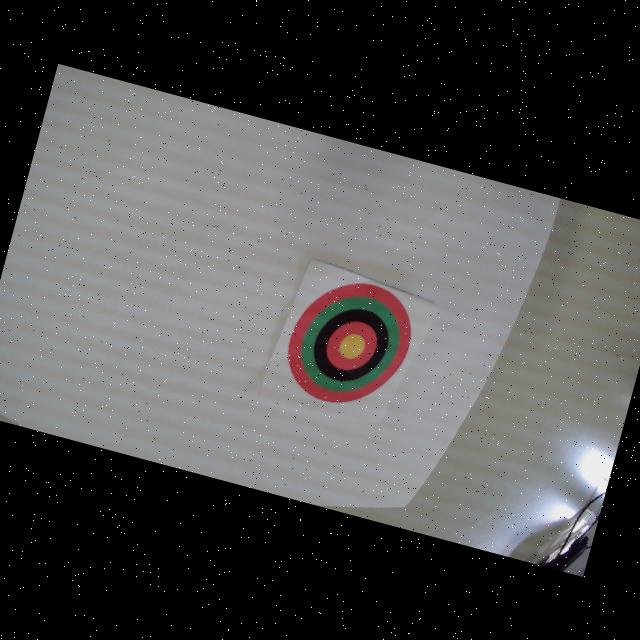COGNITIVE: (276, 267, 422, 420)
